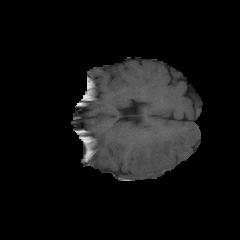glioma: (129, 127, 196, 174)
